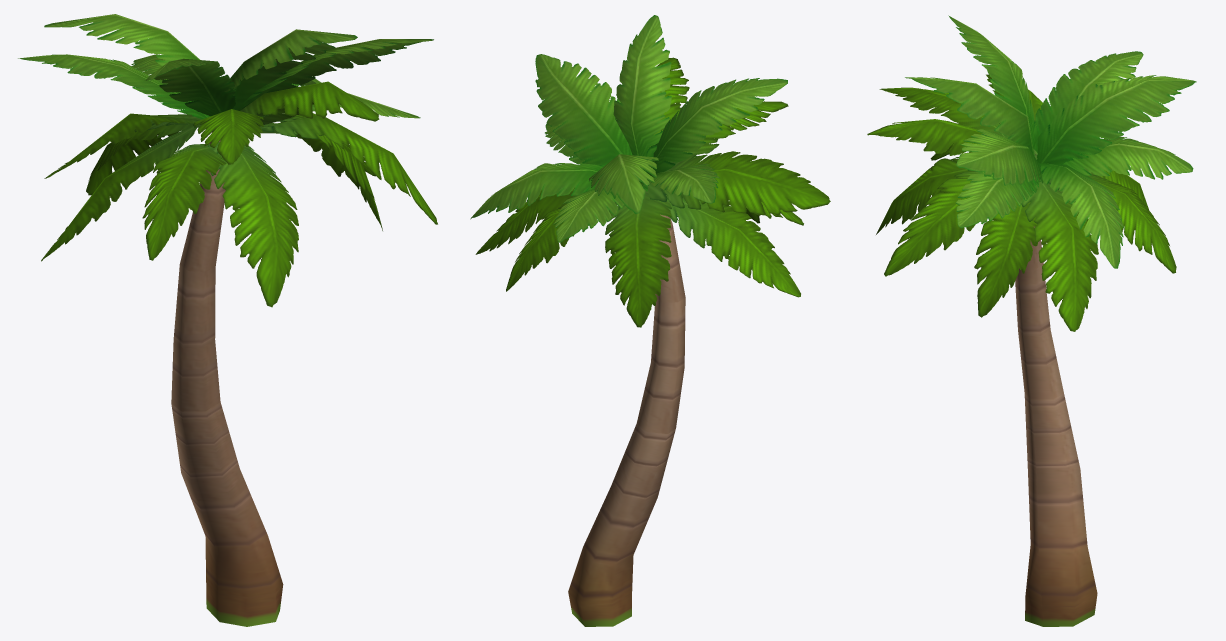
The model's file is wudaohui_yeshu02.FBX.
The picture shows the model from 3 angles, left to right: view 1: azimuth 30°, elevation 25°; view 2: azimuth 150°, elevation 25°; view 3: azimuth 270°, elevation 25°; orthographic projection. The views are drawn at different scales.
Parts seen in each view (by area): view 1: wudaohui_yeshu02; view 2: wudaohui_yeshu02; view 3: wudaohui_yeshu02.
Boxes of the visible parts, x1=… form: wudaohui_yeshu02: x1=18, y1=14, x2=437, y2=626; wudaohui_yeshu02: x1=470, y1=15, x2=830, y2=626; wudaohui_yeshu02: x1=867, y1=15, x2=1196, y2=626.
Size of the model in its own units: 516 by 831 by 479.
